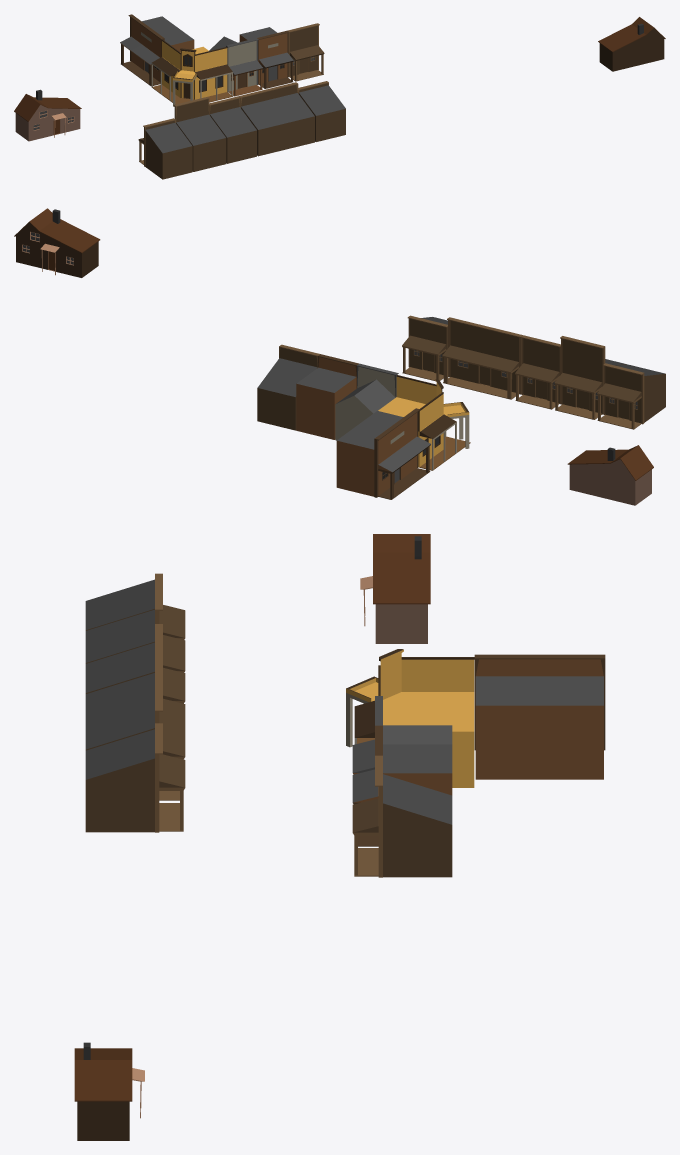
The model's file is town.fbx.
3 renders of one model, top to bottom at view 1: azimuth 30°, elevation 25°; view 2: azimuth 150°, elevation 25°; view 3: azimuth 270°, elevation 25°, orthographic. The views are drawn at different scales.
Visible parts, largest first — view 1: Cube.002, Cube.004, Store1.001, Cube.006, Cube.009, Cube.005, Cube.010, Cube.008, Store1, Store2, Cube.007, Cube.003; view 2: Store1.001, Cube.004, Cube.002, Cube.010, Cube.005, Cube.009, Store1, Cube.006, Cube.003, Cube.008, Store2, Cube.007; view 3: Store1.001, Cube.002, Cube.003, Cube.007, Cube.005, Cube.004, Cube.010, Store1, Cube.006, Cube.008, Cube.009, Store2.
Part boxes in pixels (bbox=[...]): Cube.002: bbox=[151, 39, 232, 106]; Cube.004: bbox=[238, 82, 314, 156]; Store1.001: bbox=[120, 14, 194, 86]; Cube.006: bbox=[173, 97, 226, 171]; Cube.009: bbox=[138, 118, 192, 179]; Cube.005: bbox=[14, 89, 81, 141]; Cube.010: bbox=[598, 17, 665, 71]; Cube.008: bbox=[209, 96, 256, 163]; Store1: bbox=[239, 27, 293, 88]; Store2: bbox=[209, 36, 262, 96]; Cube.007: bbox=[298, 81, 345, 141]; Cube.003: bbox=[287, 23, 324, 81]; Store1.001: bbox=[336, 408, 430, 499]; Cube.004: bbox=[442, 317, 522, 399]; Cube.002: bbox=[378, 375, 470, 470]; Cube.010: bbox=[14, 208, 100, 277]; Cube.005: bbox=[567, 445, 653, 505]; Cube.009: bbox=[597, 363, 665, 429]; Store1: bbox=[296, 354, 358, 439]; Cube.006: bbox=[554, 336, 626, 419]; Cube.003: bbox=[257, 344, 319, 430]; Cube.008: bbox=[515, 335, 560, 409]; Store2: bbox=[335, 363, 398, 440]; Cube.007: bbox=[402, 315, 447, 381]; Store1.001: bbox=[474, 654, 605, 779]; Cube.002: bbox=[346, 649, 474, 787]; Cube.003: bbox=[352, 755, 452, 877]; Cube.007: bbox=[85, 723, 185, 832]; Cube.005: bbox=[360, 534, 430, 643]; Cube.004: bbox=[85, 654, 185, 800]; Cube.010: bbox=[74, 1042, 144, 1140]; Store1: bbox=[352, 725, 452, 846]; Cube.006: bbox=[85, 577, 185, 672]; Cube.008: bbox=[85, 624, 185, 703]; Cube.009: bbox=[85, 573, 185, 639]; Store2: bbox=[352, 696, 452, 774].
Bounding box in the file's own units: 3755 × 339 × 1531.
